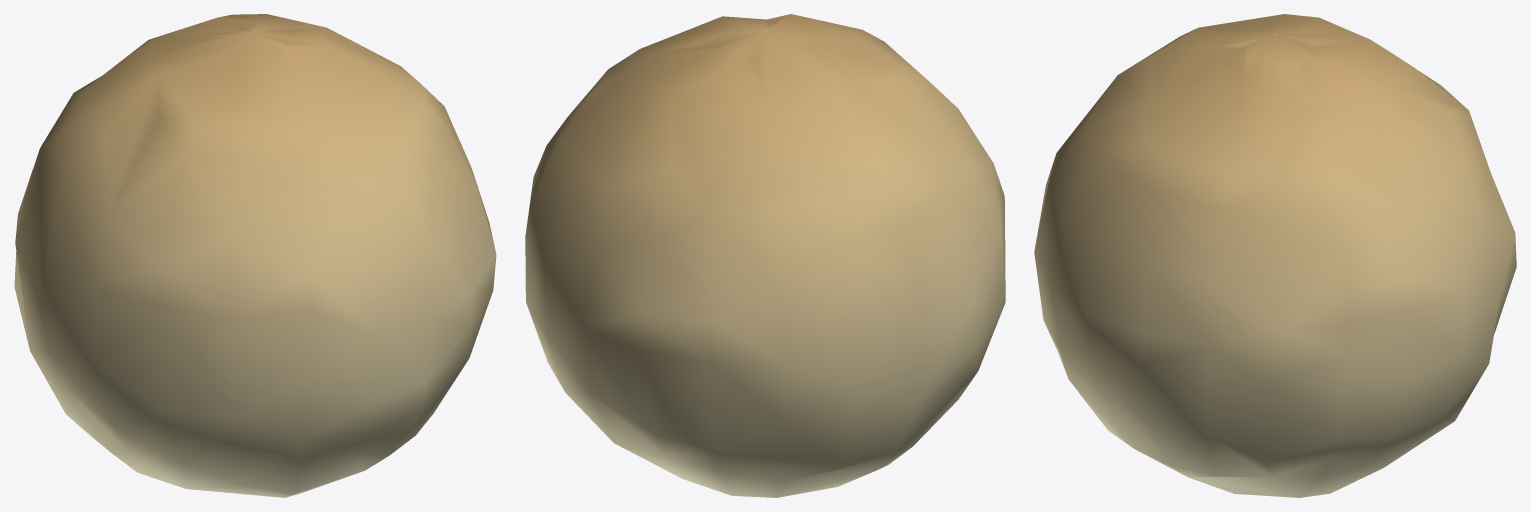
File: skybox_lowpoly.fbx
3 renders of one model, left to right at view 1: azimuth 30°, elevation 25°; view 2: azimuth 150°, elevation 25°; view 3: azimuth 270°, elevation 25°, orthographic.
Visible parts, largest first — view 1: pSphere1; view 2: pSphere1; view 3: pSphere1.
Boxes of the visible parts, x1,y1,x2,y2 form: pSphere1: [14, 14, 496, 497]; pSphere1: [525, 14, 1005, 497]; pSphere1: [1034, 14, 1516, 497].
Bounding box in the file's own units: 207 × 209 × 208.
1 material, 1 textured.
